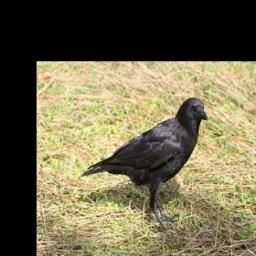Crow: (78, 96, 206, 234)
